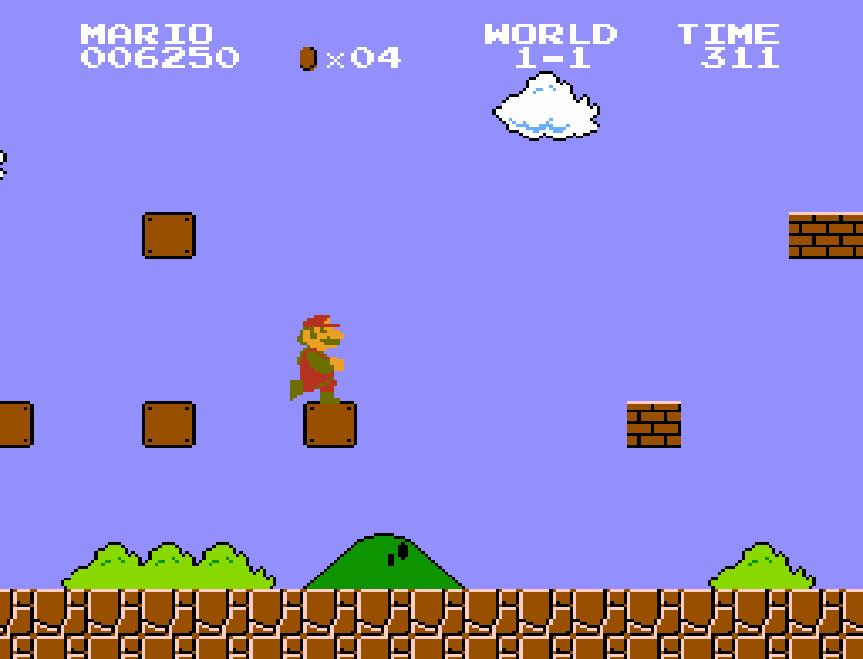big_mario: (288, 313, 346, 411)
